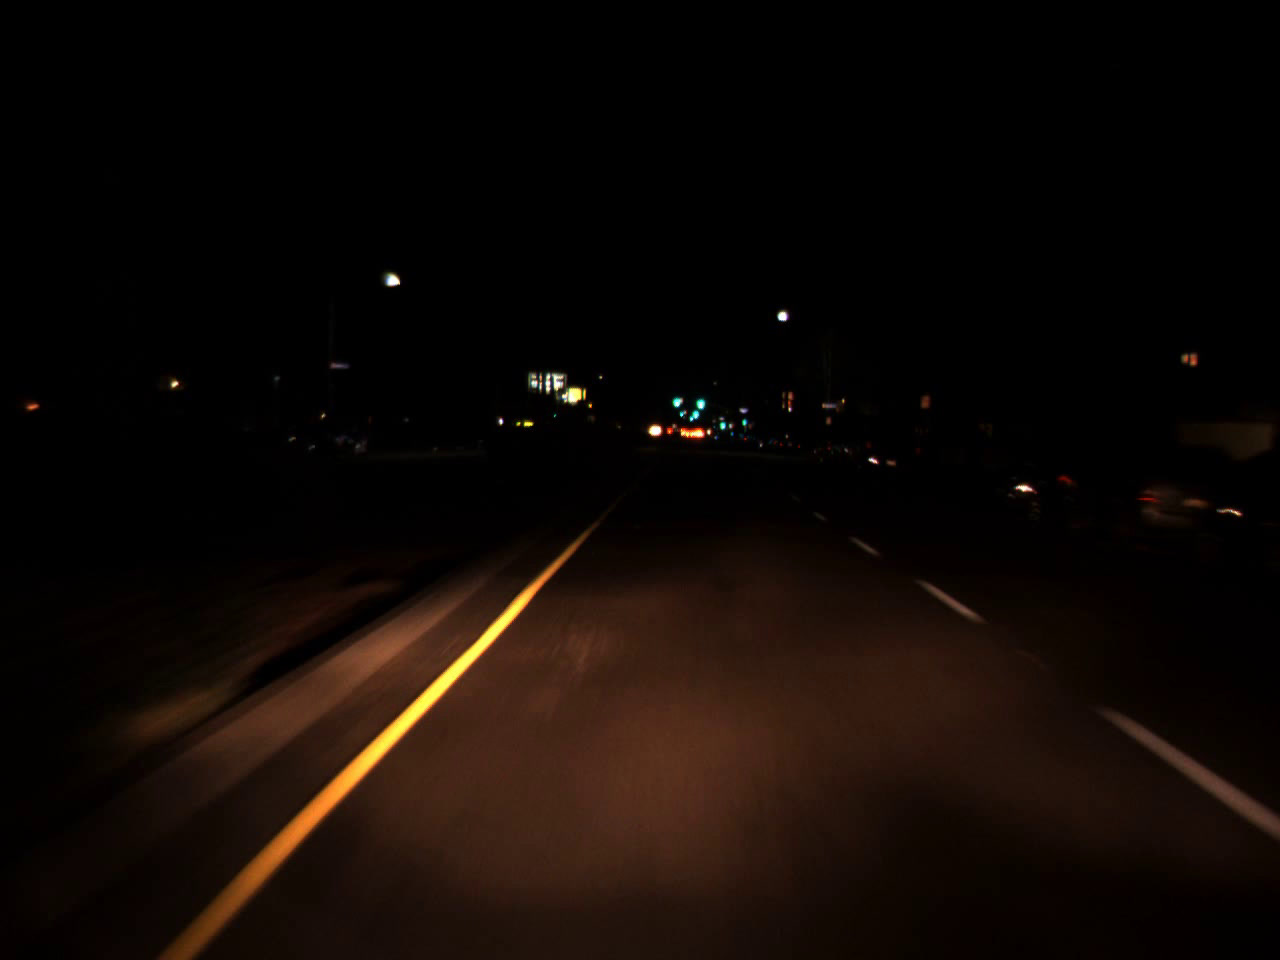go: (695, 389, 705, 410), (671, 391, 680, 406), (690, 404, 699, 419), (718, 414, 725, 432), (740, 412, 747, 427)
